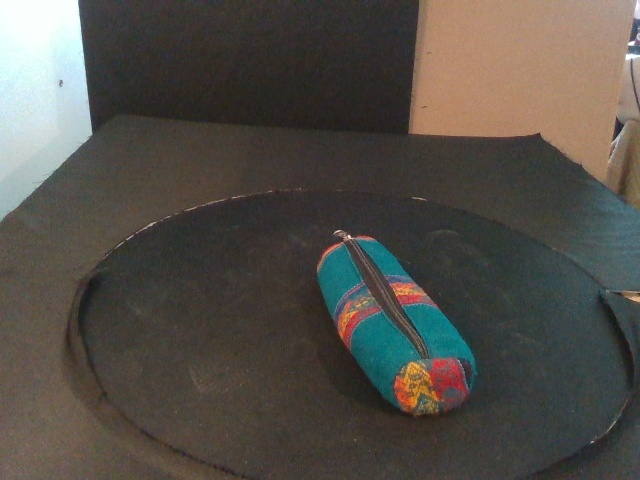pencil_case: (315, 233, 478, 418)
